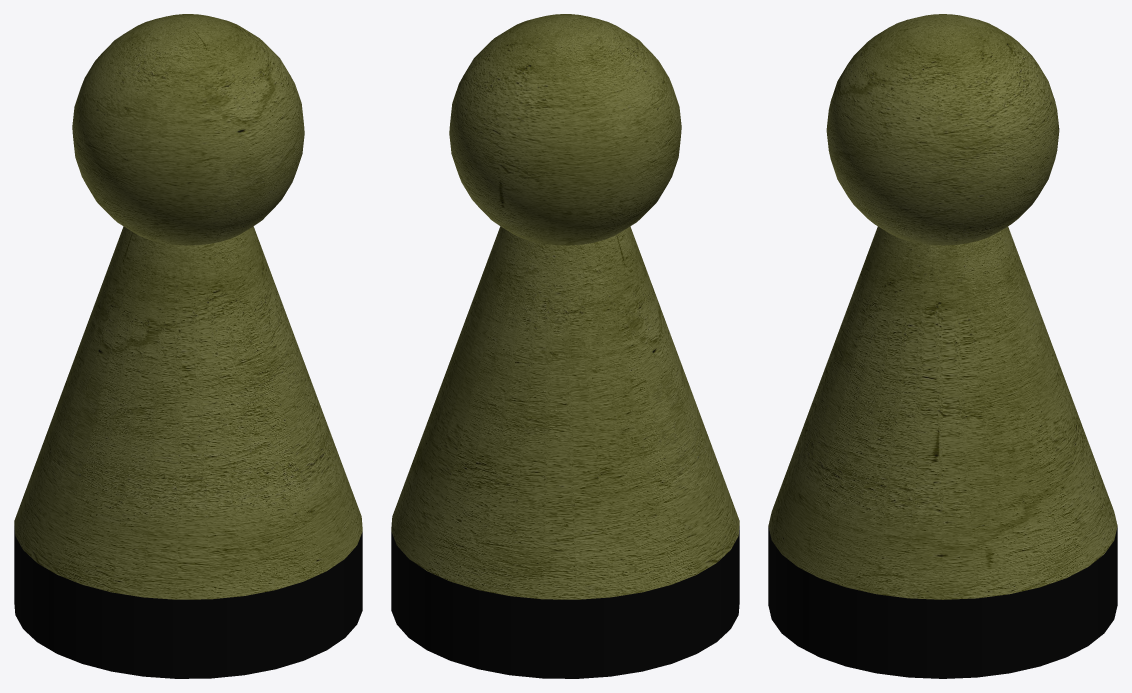
File: Player4.fbx
3 renders of one model, left to right at view 1: azimuth 30°, elevation 25°; view 2: azimuth 150°, elevation 25°; view 3: azimuth 270°, elevation 25°, orthographic.
Parts seen in each view (by area): view 1: Player4 Body, Player4 Head, Player4 Bottom; view 2: Player4 Body, Player4 Head, Player4 Bottom; view 3: Player4 Body, Player4 Head, Player4 Bottom.
Part boxes in pixels (<box>): Player4 Body: <box>14,226,362,599</box>; Player4 Head: <box>72,14,304,245</box>; Player4 Bottom: <box>14,526,362,678</box>; Player4 Body: <box>391,226,739,599</box>; Player4 Head: <box>449,14,681,245</box>; Player4 Bottom: <box>391,526,739,678</box>; Player4 Body: <box>768,226,1117,599</box>; Player4 Head: <box>826,14,1059,245</box>; Player4 Bottom: <box>768,527,1117,678</box>.
Bounding box in the file's own units: 60 × 110 × 60.
Materials: 2 (1 with a texture image).
